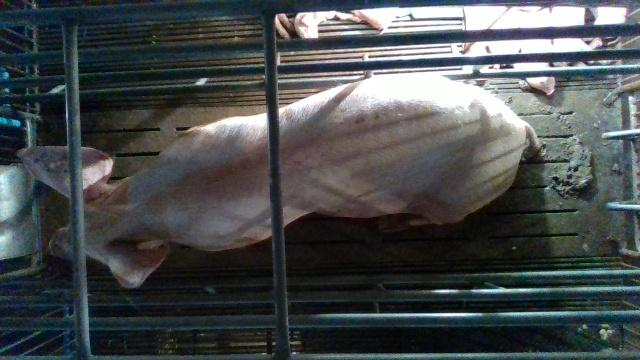piglet: (514, 7, 555, 94), (551, 5, 594, 67), (486, 7, 520, 67), (462, 4, 487, 75)
sow-sit: (17, 69, 537, 288)
